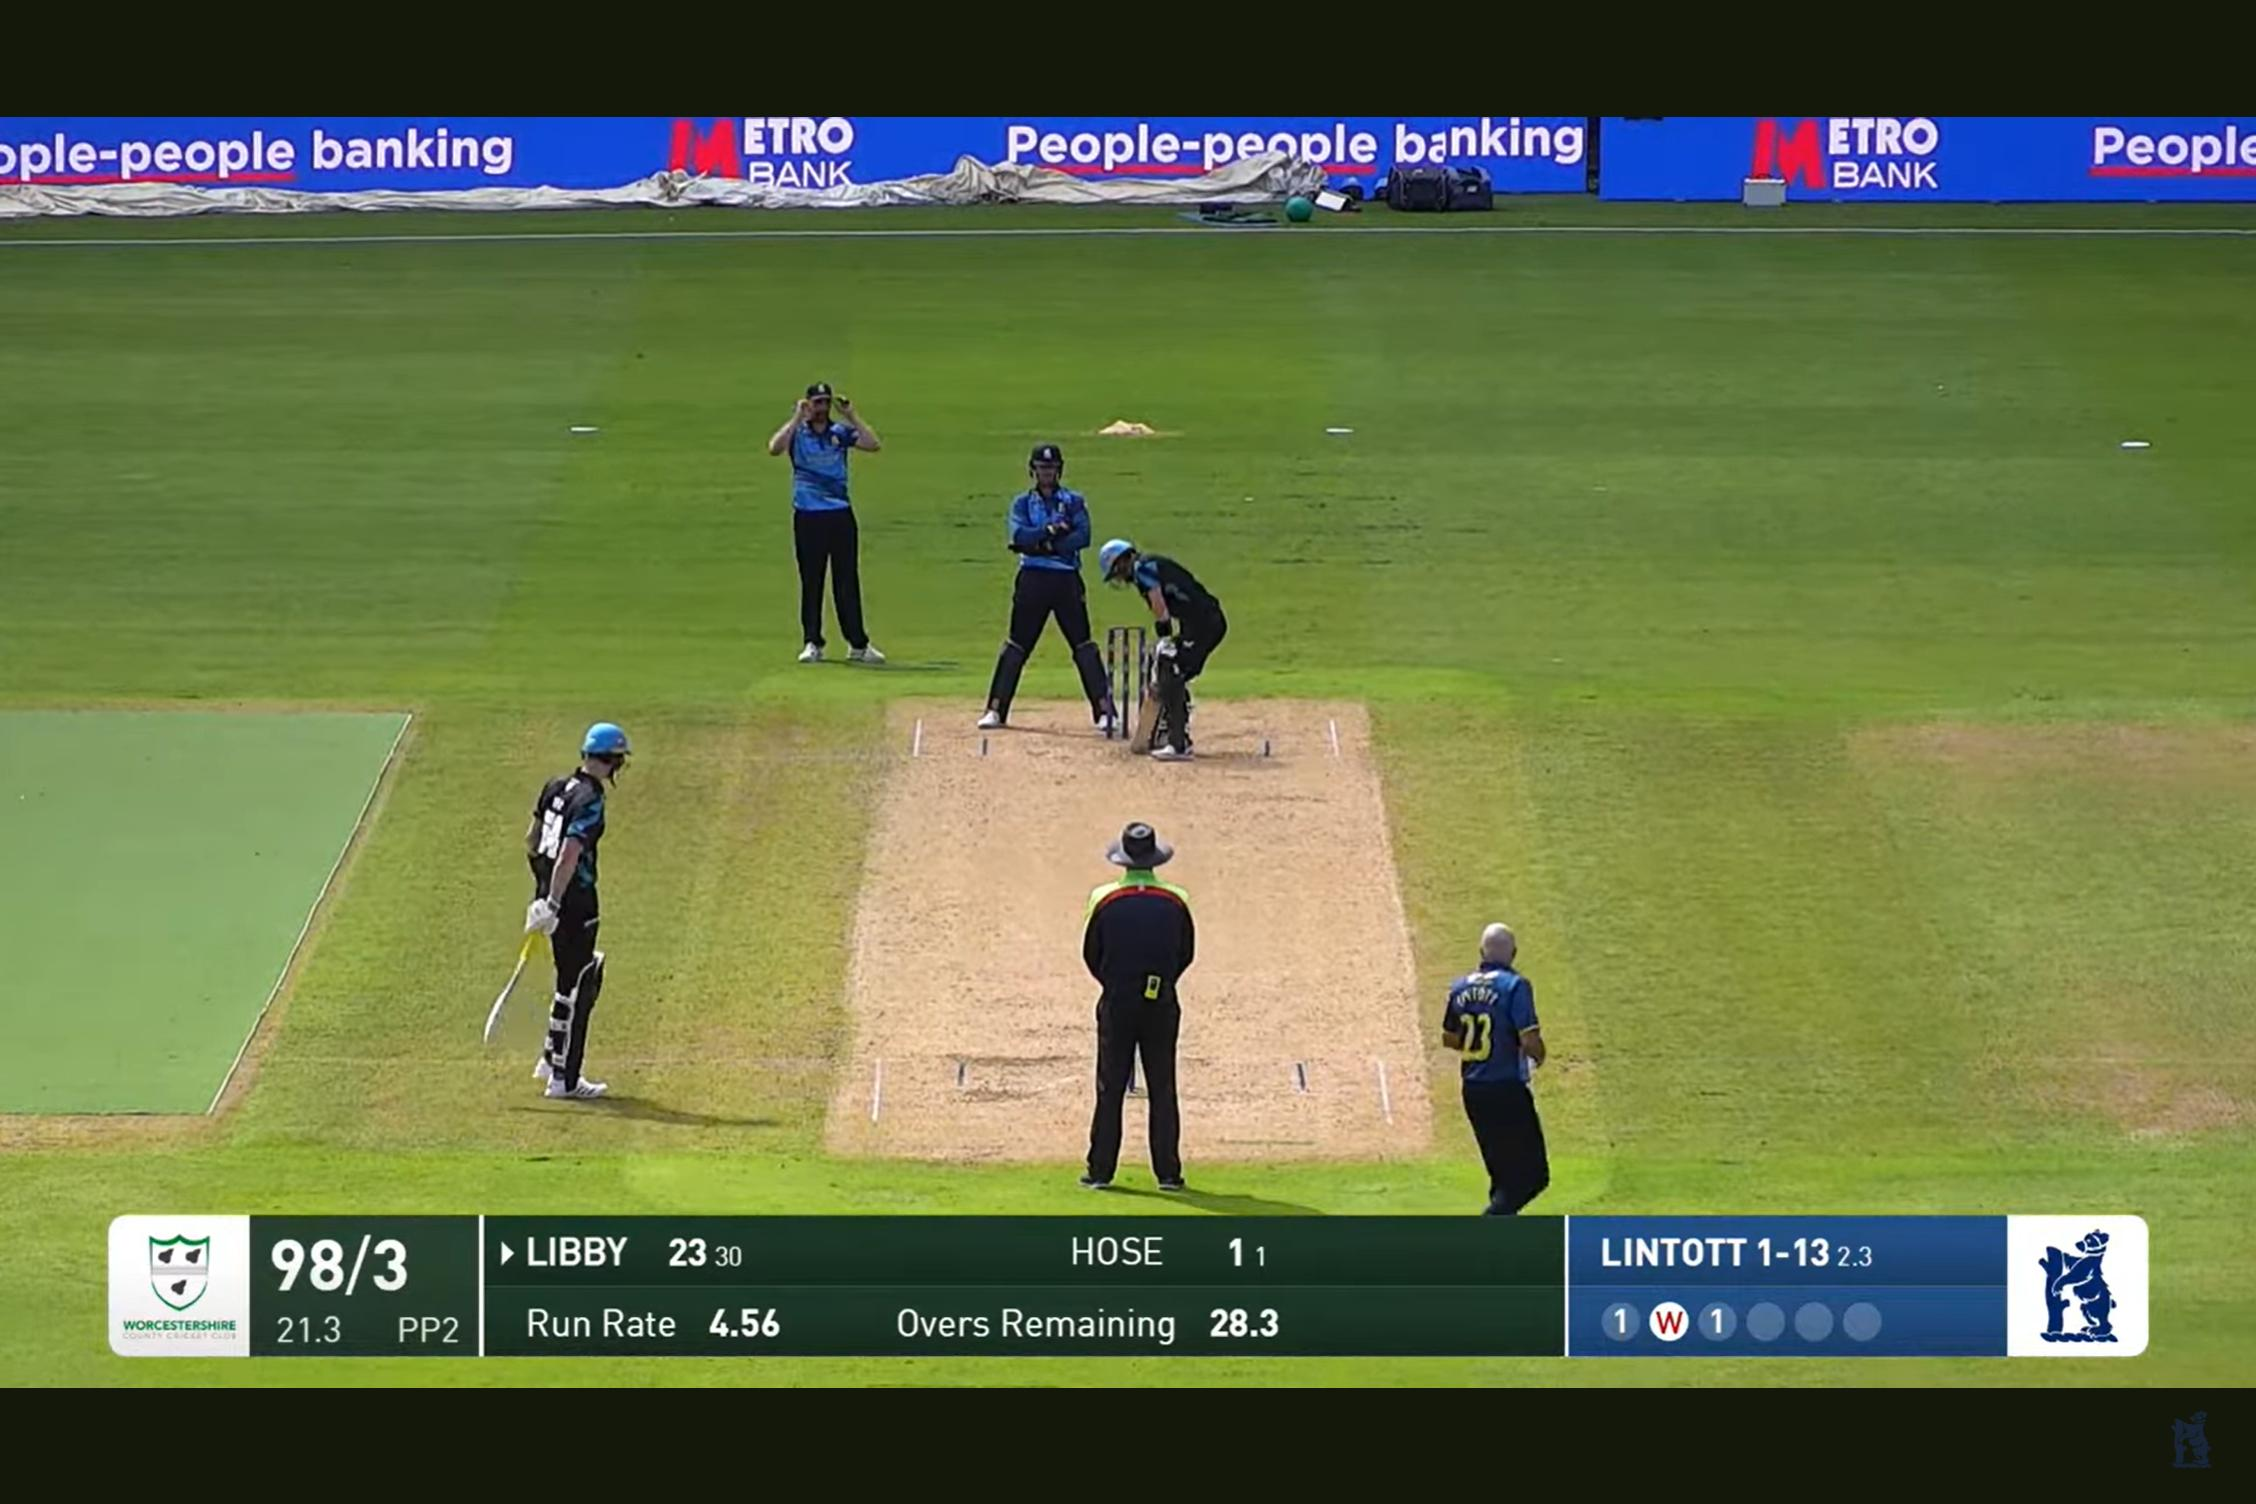batsman: (1086, 524, 1224, 765)
bowler running in: (1427, 913, 1574, 1215)
non striker: (483, 692, 656, 1116)
umpire: (1036, 811, 1229, 1198)
